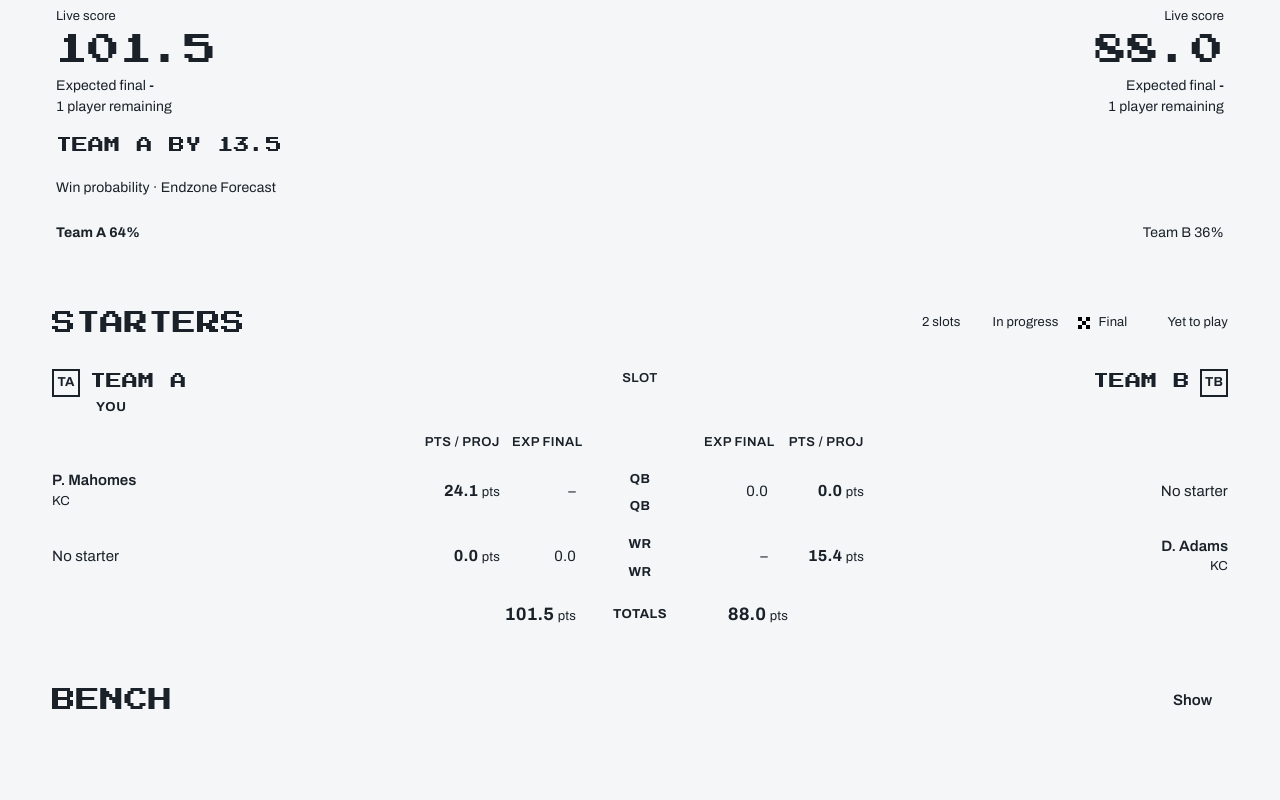
Test: an opponent's starter name opens the Decision card in rostered context
(page scrolled)
Expected: the element with test id "slot-comparison" is shown, [32,291,1248,640]
What coordinates should you click on to do the following:
click the button "D. Adams"
I would click on:
 (1195, 547)
Its box is [1161,536,1228,558].
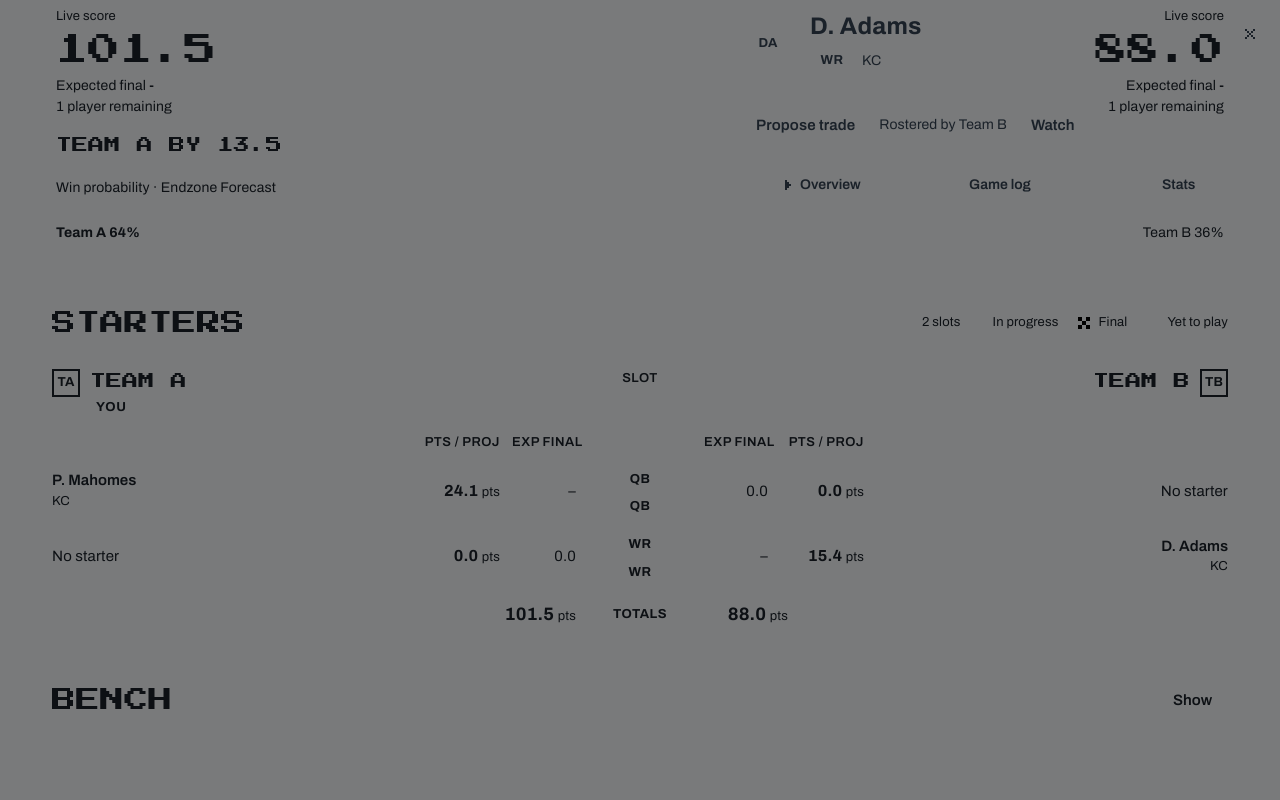
Result: the text "Rostered by Team B" is shown at [879,114,1007,135]
